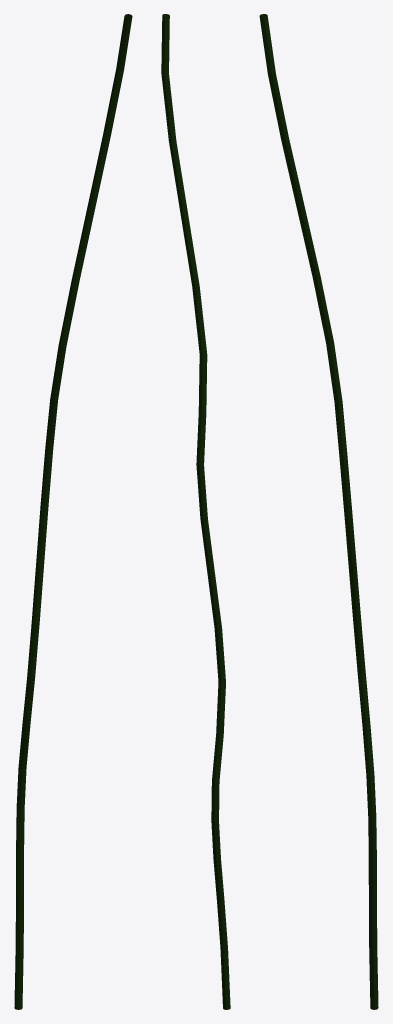
The model's file is Pnącze4.fbx.
3 renders of one model, left to right at view 1: azimuth 90°, elevation 25°; view 2: azimuth 210°, elevation 25°; view 3: azimuth 270°, elevation 25°, orthographic. The views are drawn at different scales.
Parts seen in each view (by area): view 1: BezierCurve.003; view 2: BezierCurve.003; view 3: BezierCurve.003.
Boxes of the visible parts, left/top/right/bottom form: BezierCurve.003: left=14, top=14, right=132, bottom=1009; BezierCurve.003: left=161, top=14, right=230, bottom=1009; BezierCurve.003: left=259, top=14, right=378, bottom=1009.
Bounding box in the file's own units: 0.291 × 12.78 × 1.38.
